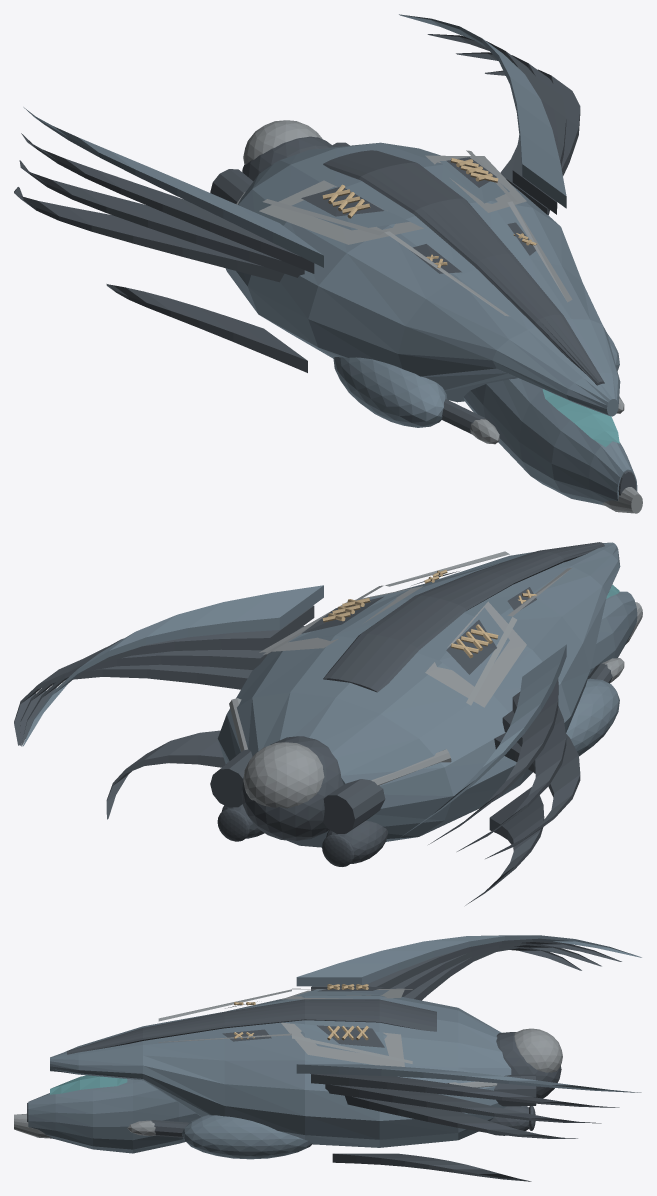
File: thrill_blue_off.glb
3 renders of one model, top to bottom at view 1: azimuth 30°, elevation 25°; view 2: azimuth 150°, elevation 25°; view 3: azimuth 270°, elevation 25°, orthographic. The views are drawn at different scales.
Parts seen in each view (by area): view 1: hull_0, hull_1, hull_2, wing_R_pivot_blade0, wing_L_pivot_blade0, wing_L_pivot_blade2, wing_L_pivot_blade1, wing_L_pivot_blade3, fin_L_pivot_blade1, wing_R_pivot_blade1, hull_3, wing_R_pivot_blade2 (+2 smaller); view 2: hull_0, hull_1, hull_2, wing_R_pivot_blade0, wing_R_pivot_blade1, wing_R_pivot_blade3, wing_L_pivot_blade0, wing_R_pivot_blade2, fin_R_pivot_blade1, fin_L_pivot_blade1, wing_L_pivot_blade1, wing_L_pivot_blade2 (+2 smaller); view 3: hull_0, hull_1, hull_2, wing_L_pivot_blade0, wing_R_pivot_blade1, wing_R_pivot_blade0, wing_R_pivot_blade2, wing_R_pivot_blade3, fin_R_pivot_blade1, wing_L_pivot_blade1, wing_L_pivot_blade2, wing_L_pivot_blade3 (+2 smaller).
Part boxes in pixels (x1,y1,x2,y2): hull_0: (225,142,637,505); hull_1: (210,136,636,495); hull_2: (236,120,642,513); wing_R_pivot_blade0: (399,14,566,208); wing_L_pivot_blade0: (23,107,323,267); wing_L_pivot_blade2: (19,160,304,277); wing_L_pivot_blade1: (21,133,314,273); wing_L_pivot_blade3: (14,187,284,282); fin_L_pivot_blade1: (106,284,307,372); wing_R_pivot_blade1: (427,34,558,214); hull_3: (542,389,619,447); wing_R_pivot_blade2: (456,52,566,214); hull_0: (217,542,637,847); hull_1: (210,542,612,866); hull_2: (229,551,642,808); wing_R_pivot_blade0: (22,585,323,746); wing_R_pivot_blade1: (21,605,314,746); wing_R_pivot_blade3: (14,660,252,745); wing_L_pivot_blade0: (400,644,566,837); wing_R_pivot_blade2: (19,626,304,745); fin_R_pivot_blade1: (106,730,225,819); fin_L_pivot_blade1: (465,787,544,905); wing_L_pivot_blade1: (428,679,558,844); wing_L_pivot_blade2: (457,706,566,851); hull_0: (28,989,511,1159); hull_1: (27,986,561,1137); hull_2: (14,988,562,1138); wing_L_pivot_blade0: (296,935,641,986); wing_R_pivot_blade1: (311,1074,619,1107); wing_R_pivot_blade0: (296,1064,641,1092); wing_R_pivot_blade2: (325,1084,601,1123); wing_R_pivot_blade3: (345,1095,577,1138); fin_R_pivot_blade1: (332,1153,531,1181); wing_L_pivot_blade1: (311,939,621,990); wing_L_pivot_blade2: (390,943,601,996); wing_L_pivot_blade3: (404,946,581,1000).
Size of the model in its own units: 3.07 by 1.12 by 4.39.
